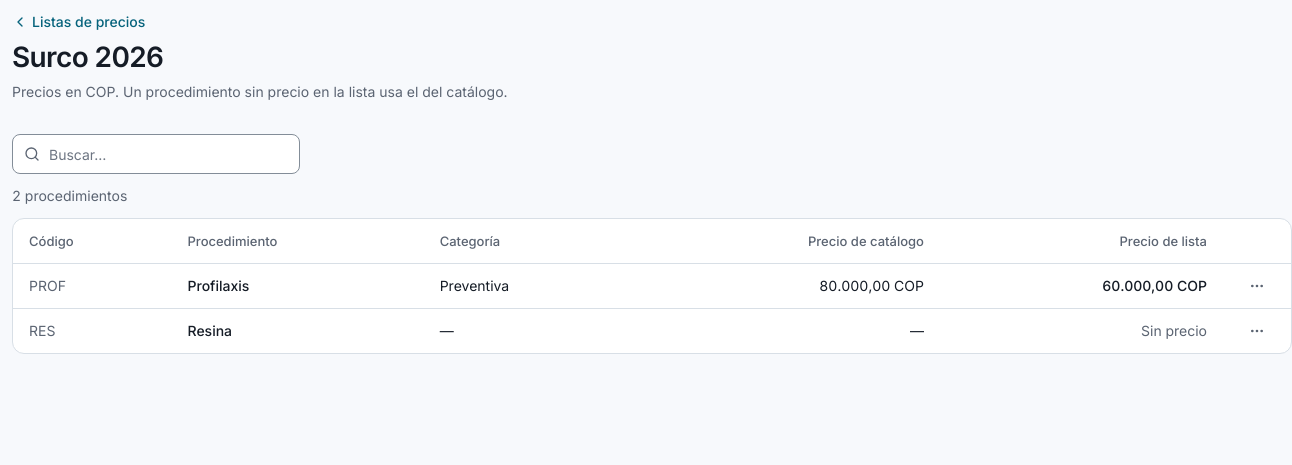
Test: PriceListItemsView (DX-105) › una búsqueda sin resultados ofrece limpiarla
Expected: the table named "Precios de la lista" is shown, [13,219,1291,352]
Step 1. Type "zzz" into the search field named "Buscar por código, nombre o categoría" → (156,154), box [12,134,300,174]
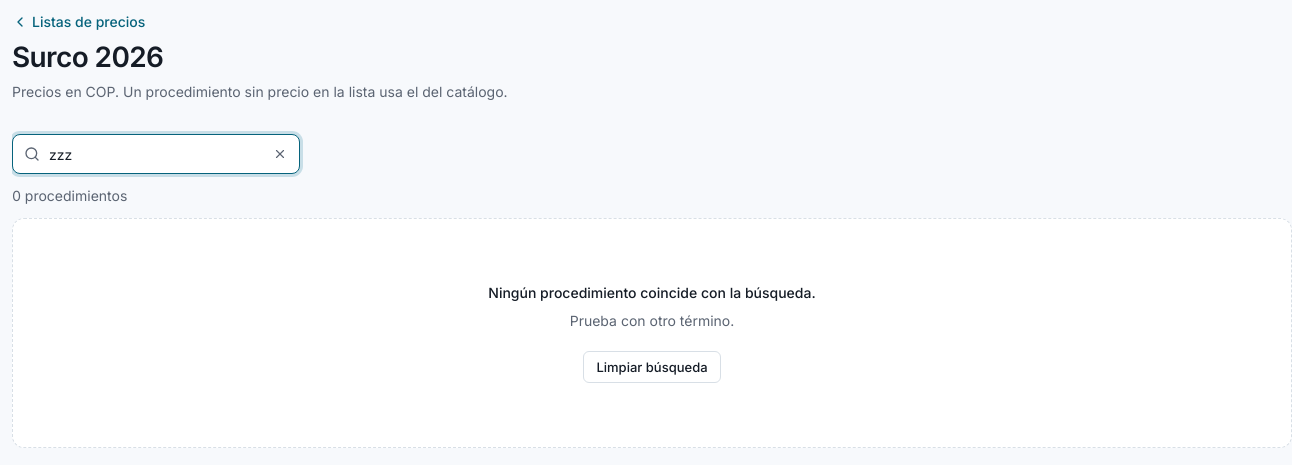
Expected: the text "Ningún procedimiento coincide con la búsqueda." is shown, [488,283,816,303]
Step 2. Click the button "Limpiar búsqueda" → (652,367), box [583,351,720,383]
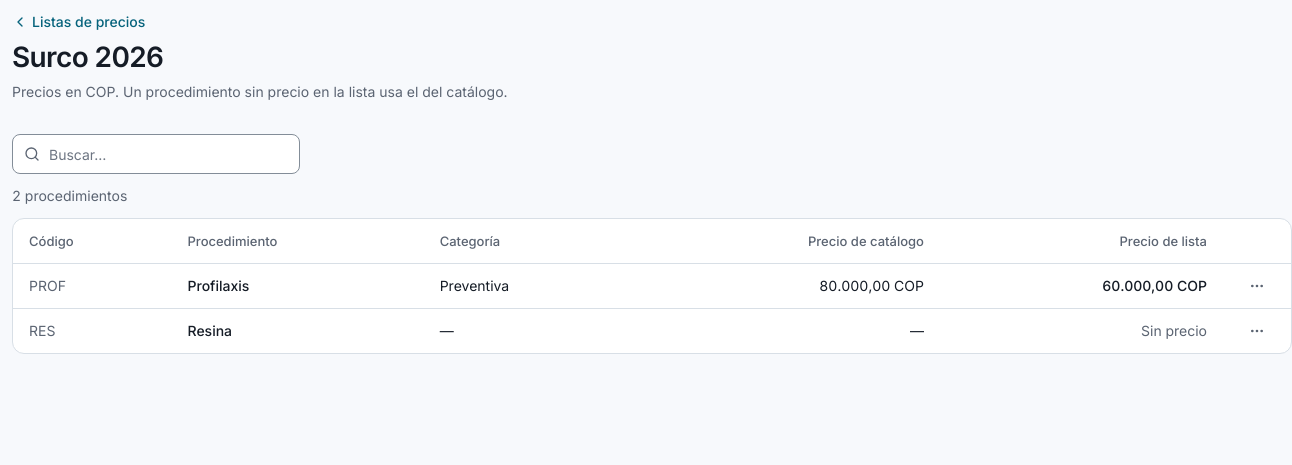
Expected: the table named "Precios de la lista" is shown, [13,219,1291,352]
